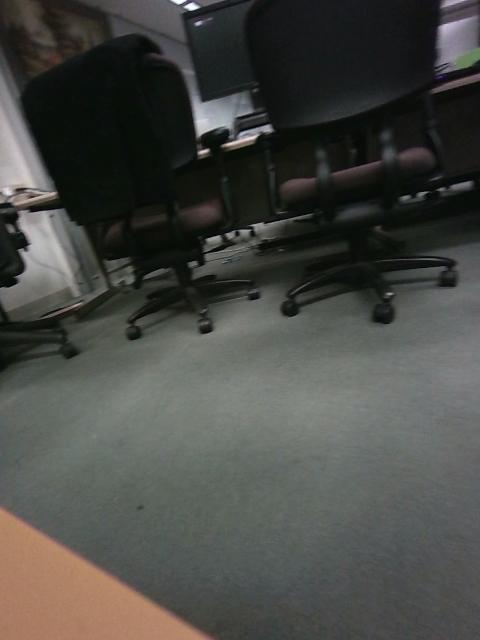block: (425, 283, 476, 361)
